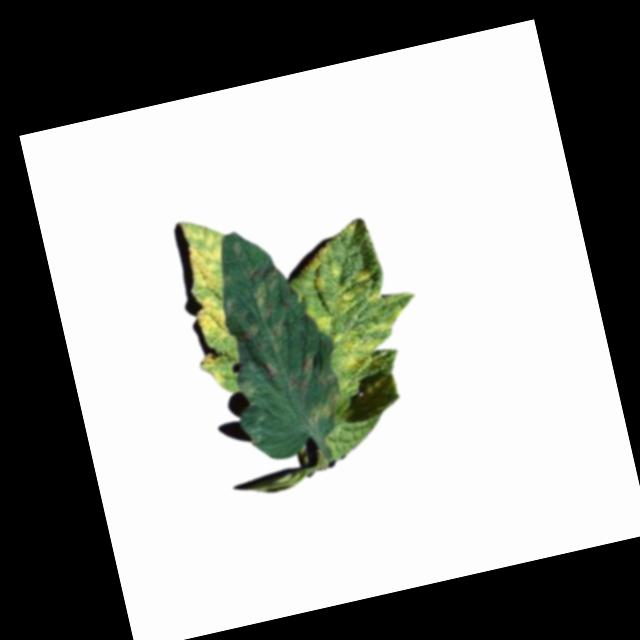Leaf_Mold: (276, 207, 433, 400), (224, 225, 345, 437), (167, 213, 255, 389)
